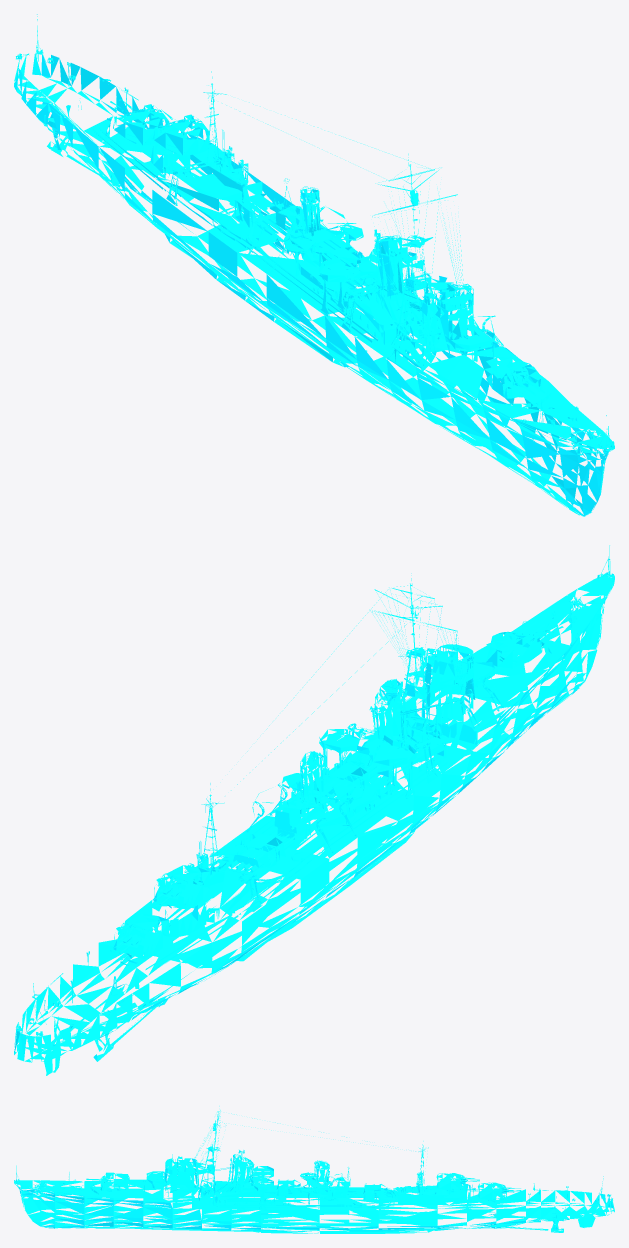
File: PJSD209.glb
3 renders of one model, top to bottom at view 1: azimuth 30°, elevation 25°; view 2: azimuth 150°, elevation 25°; view 3: azimuth 270°, elevation 25°, orthographic. The views are drawn at different scales.
Parts seen in each view (by area): view 1: hull_mid, hull_bow, hull_stern, main_battery, torpedo; view 2: hull_mid, hull_stern, hull_bow, main_battery, torpedo; view 3: hull_mid, hull_bow, hull_stern, main_battery, torpedo.
Boxes of the visible parts, <box> form: hull_mid: <box>124,71,521,446</box>; hull_bow: <box>445,360,614,516</box>; hull_stern: <box>14,14,211,211</box>; main_battery: <box>110,99,545,398</box>; torpedo: <box>229,193,374,288</box>; hull_mid: <box>125,573,524,989</box>; hull_stern: <box>14,913,238,1075</box>; hull_bow: <box>455,545,614,756</box>; main_battery: <box>110,621,545,957</box>; torpedo: <box>229,761,380,872</box>; hull_mid: <box>143,1106,475,1233</box>; hull_bow: <box>14,1165,143,1229</box>; hull_stern: <box>446,1176,614,1232</box>; main_battery: <box>86,1172,521,1200</box>; torpedo: <box>264,1179,392,1200</box>.
Bounding box in the file's own units: 0.7614 × 1.79 × 7.95.
